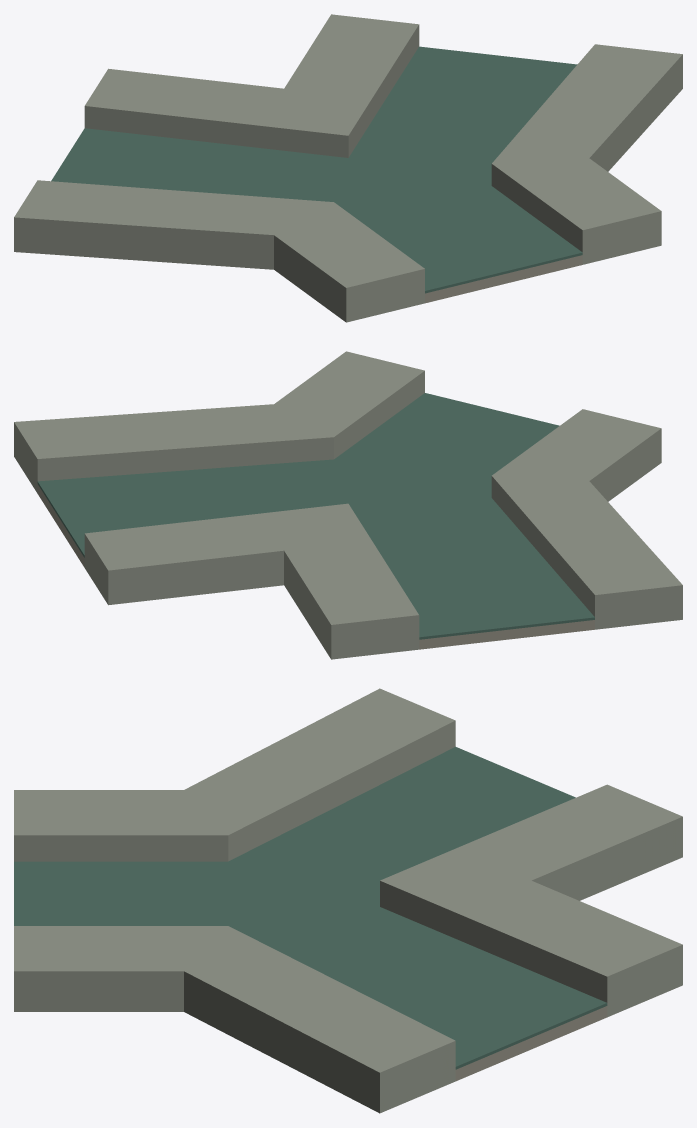
The model's file is undercity-sewers-and-thieves-den-y-fork-a3b2f334__25038.glb.
The picture shows the model from 3 angles, top to bottom: view 1: azimuth 30°, elevation 25°; view 2: azimuth 150°, elevation 25°; view 3: azimuth 270°, elevation 25°; orthographic projection. The views are drawn at different scales.
Parts seen in each view (by area): view 1: y-fork; view 2: y-fork; view 3: y-fork.
Boxes of the visible parts, left/top/right/bottom form: y-fork: left=14, top=14, right=682, bottom=322; y-fork: left=14, top=351, right=682, bottom=659; y-fork: left=14, top=688, right=682, bottom=1113.
Size of the model in its own units: 8.49 by 0.4197 by 6.24.
